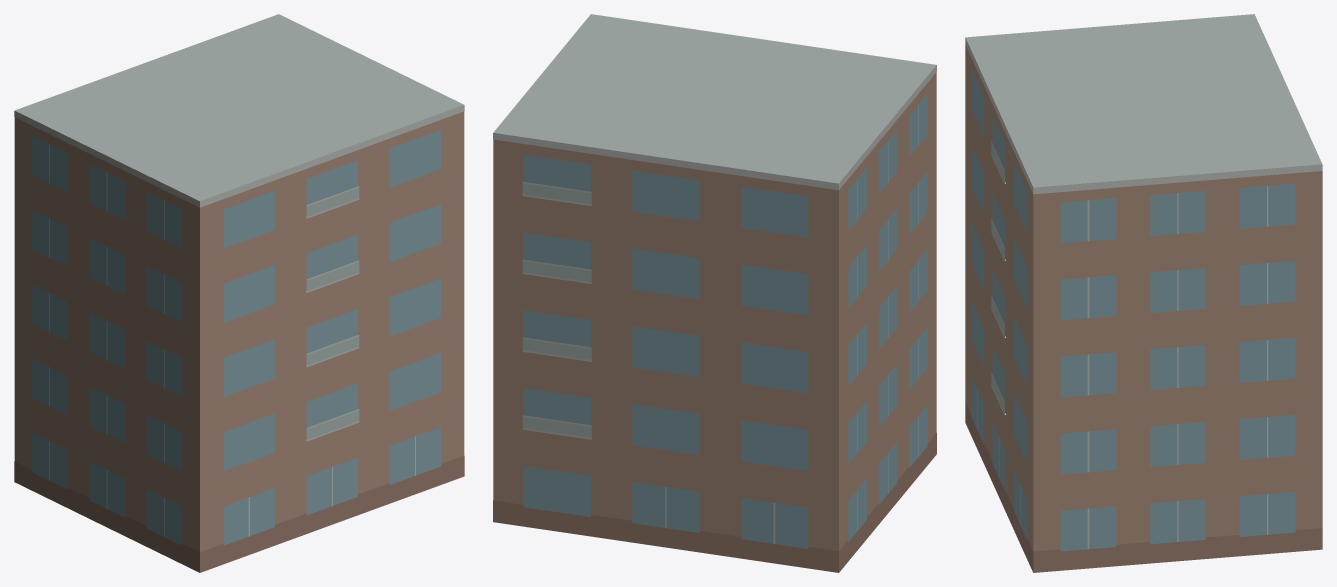
Rendered from survey-upis-32724593.glb.
The picture shows the model from 3 angles, left to right: view 1: azimuth 30°, elevation 25°; view 2: azimuth 150°, elevation 25°; view 3: azimuth 270°, elevation 25°; orthographic projection. The views are drawn at different scales.
Parts seen in each view (by area): view 1: survey-upis-32724593.tmp; view 2: survey-upis-32724593.tmp; view 3: survey-upis-32724593.tmp.
Part boxes in pixels (x1,y1,x2,y2): survey-upis-32724593.tmp: [14, 14, 464, 572]; survey-upis-32724593.tmp: [493, 14, 936, 572]; survey-upis-32724593.tmp: [965, 14, 1322, 572].
Size of the model in its own units: 13.74 by 14.2 by 11.95.
